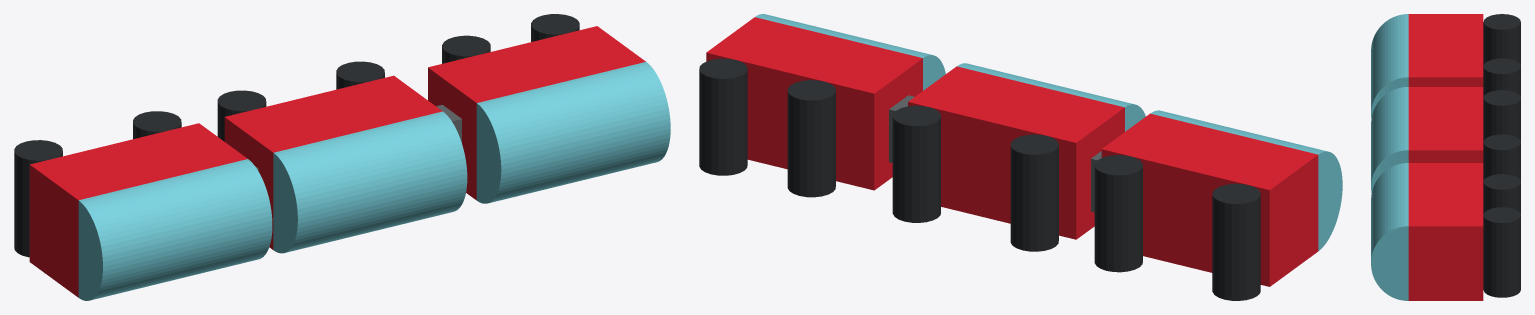
Rendered from tinker.obj.
3 renders of one model, left to right at view 1: azimuth 30°, elevation 25°; view 2: azimuth 150°, elevation 25°; view 3: azimuth 270°, elevation 25°, orthographic. The views are drawn at different scales.
Parts seen in each view (by area): view 1: group_0_7720667, group_0_15277357, group_0_2829873; view 2: group_0_15277357, group_0_2829873, group_0_7720667, group_0_6383466; view 3: group_0_15277357, group_0_2829873, group_0_7720667.
Boxes of the visible parts, x1,y1,x2,y2 form: group_0_7720667: (78,62,670,300); group_0_15277357: (29,26,645,297); group_0_2829873: (14,14,579,257); group_0_15277357: (706,17,1318,286); group_0_2829873: (699,58,1260,300); group_0_7720667: (755,14,1342,250); group_0_6383466: (889,95,1101,212); group_0_15277357: (1408,14,1483,300); group_0_2829873: (1483,14,1520,297); group_0_7720667: (1371,14,1408,300).
Bounding box in the file's own units: 67 × 11 × 20.
